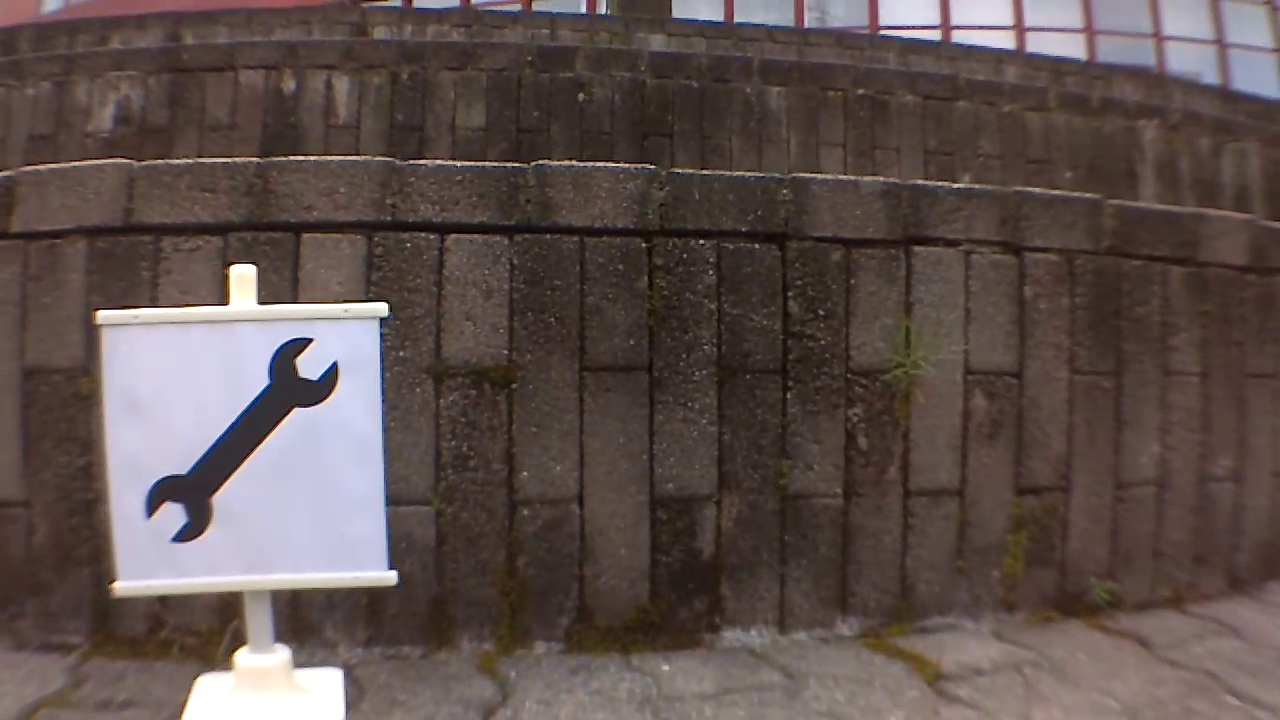wrench: (144, 336, 350, 541)
